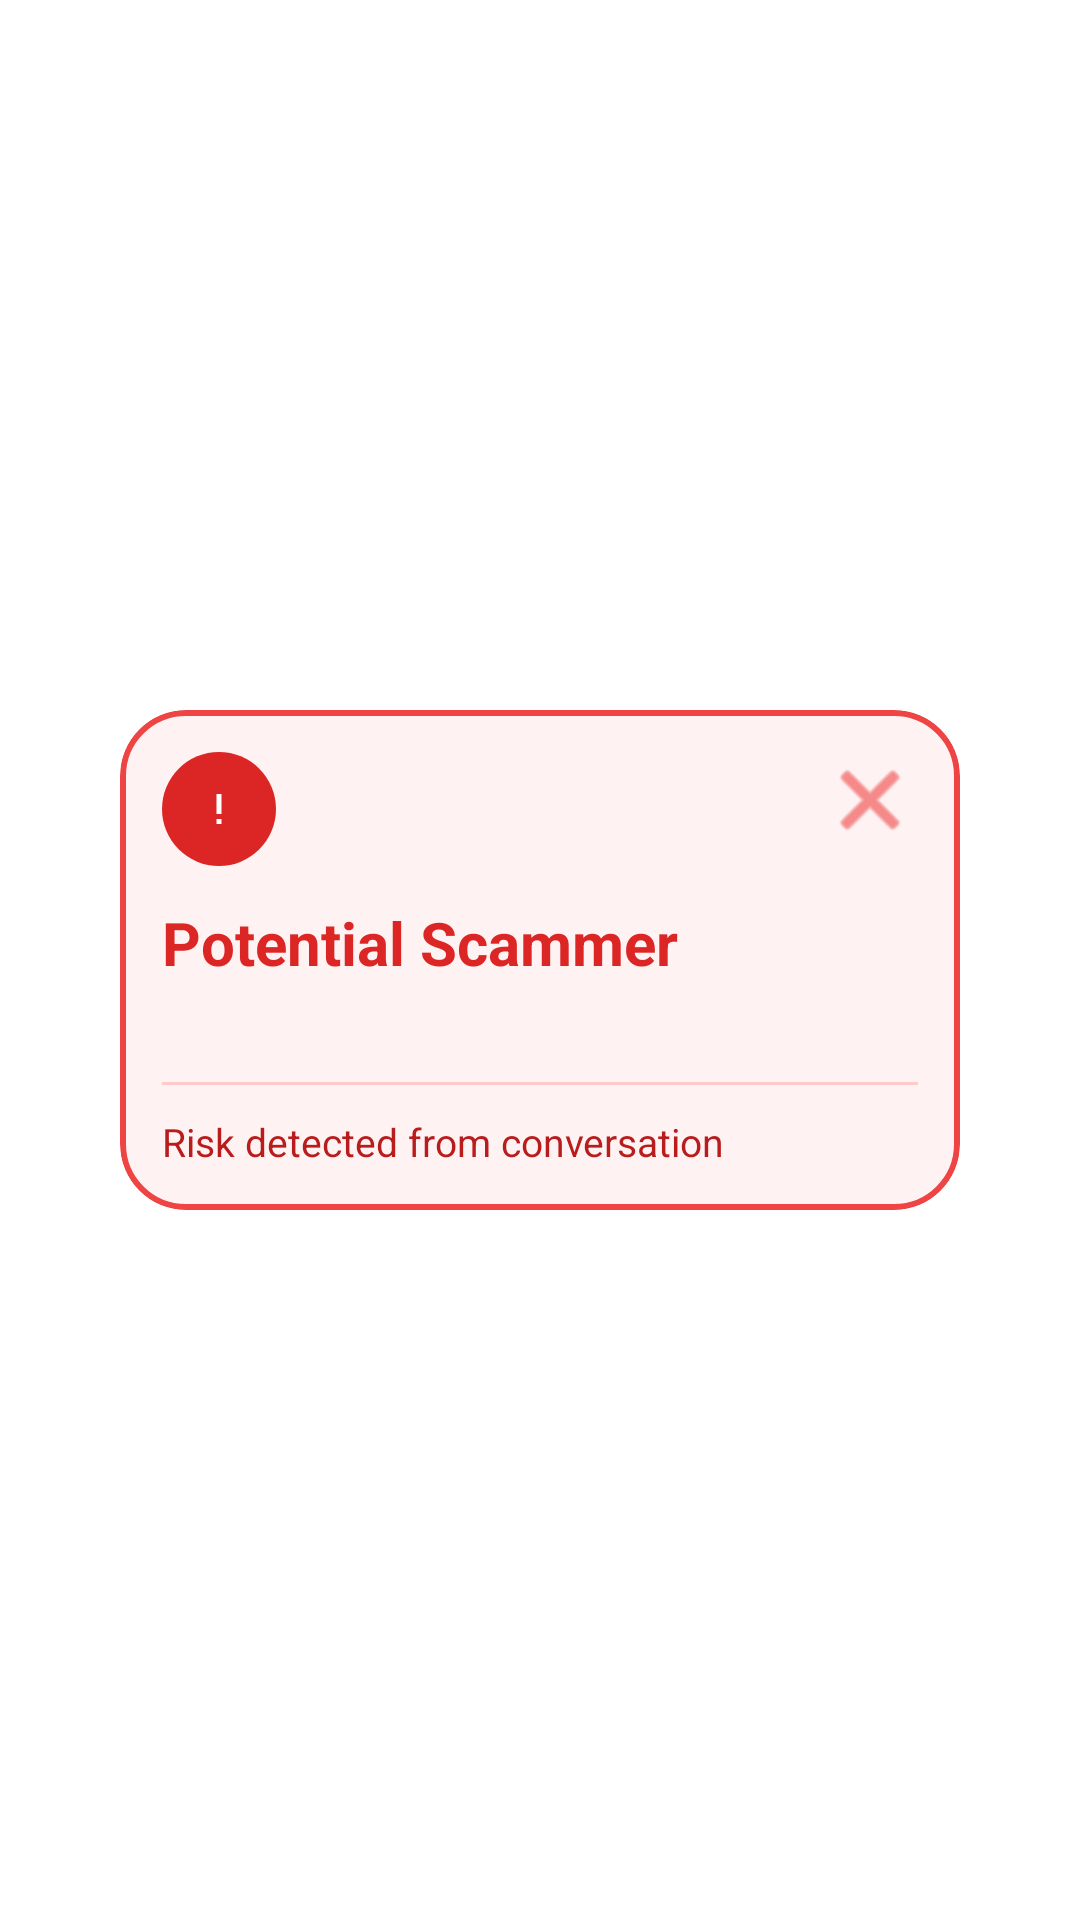

Where to tap for icons on this 1080x1920 app screen, as (x,y):
Dismiss: (870,800)
exclamation: (219,809)
